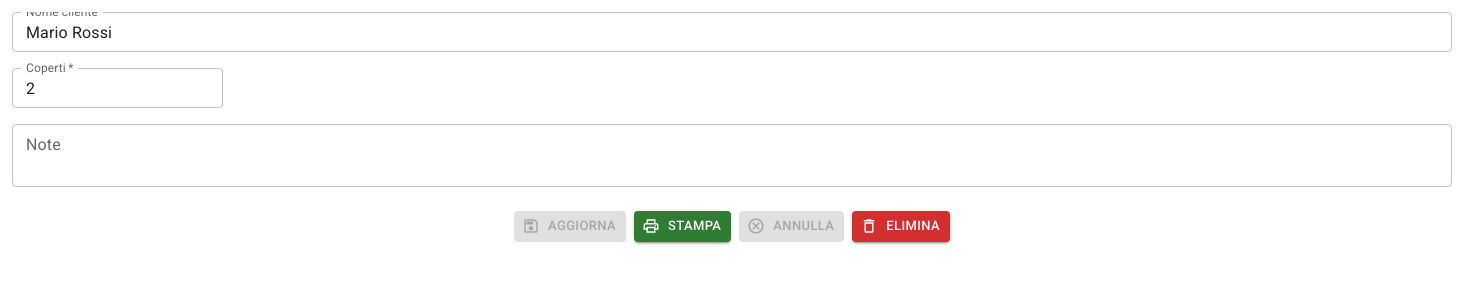
OrderEditForm buttons › mostra gli invalidValues restituiti dal backend durante l'aggiornamento
Replace the text in the field labelled "Nome cliente" with "Luigi Bianchi" at [732, 32], box [12,12,1452,52]
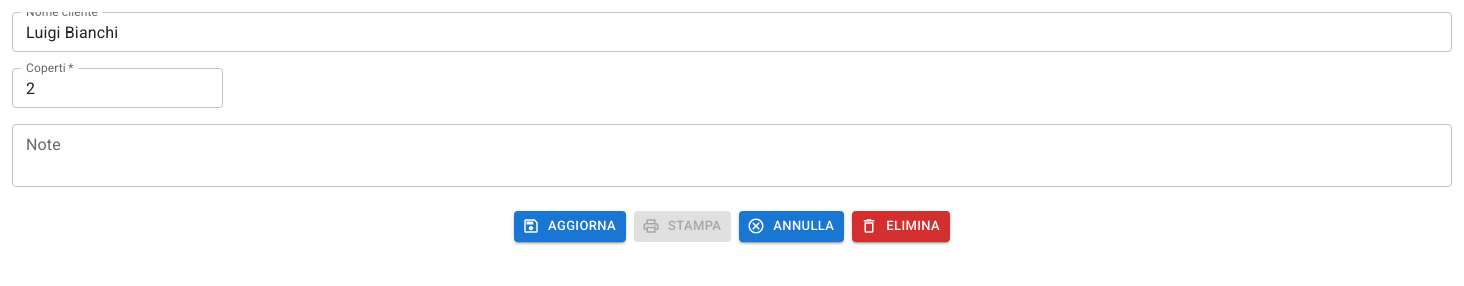
Click the button "Aggiorna" at [570, 226], box [514,211,626,242]
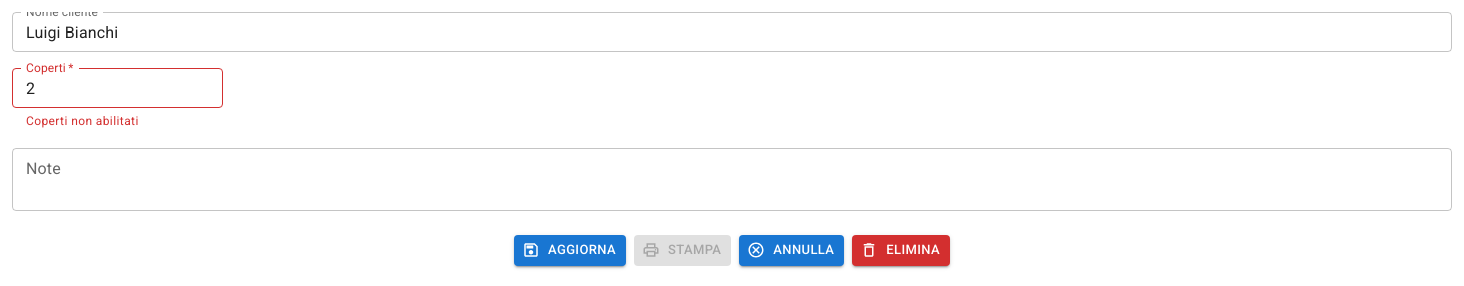
Expected: the text "Coperti non abilitati" is shown, [26,114,139,128]
